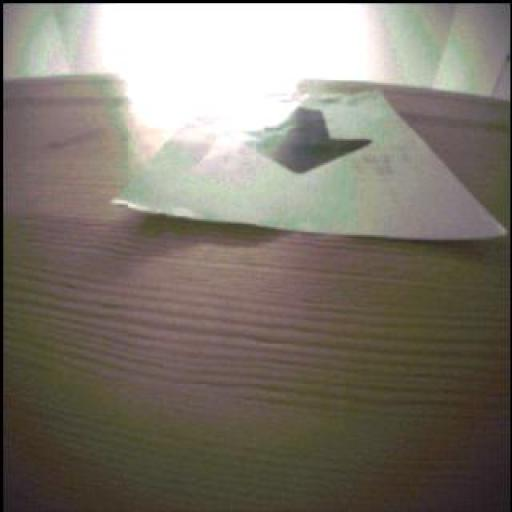arrow: (256, 108, 373, 174)
